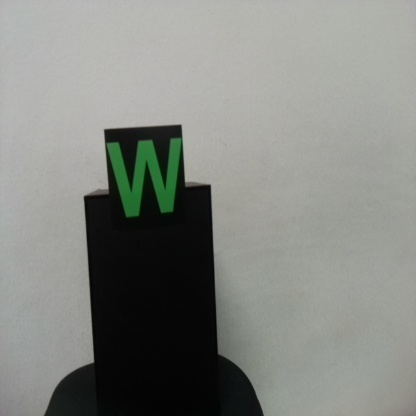id_12: (104, 127, 187, 229)
